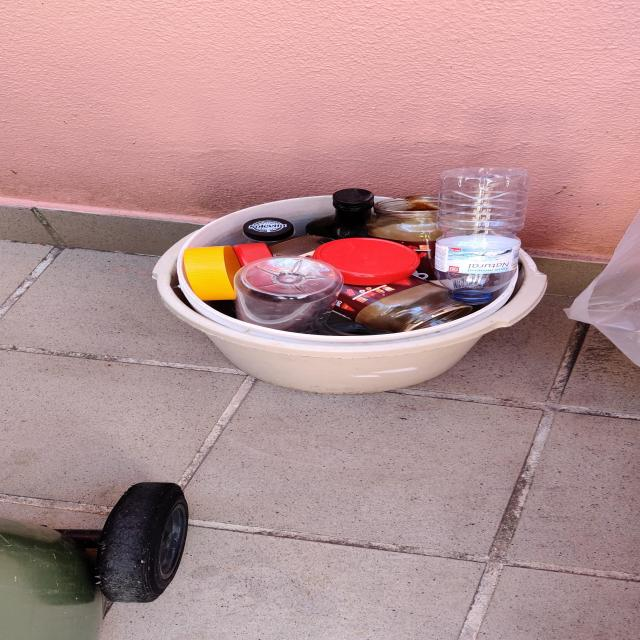litter: (434, 166, 524, 305), (368, 197, 456, 260), (311, 236, 432, 280), (178, 244, 263, 302), (250, 212, 292, 237)
